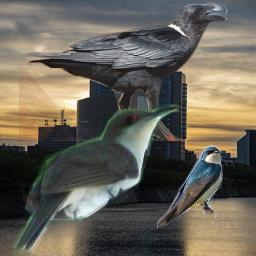Crow: (19, 0, 228, 141)
Cuckoo: (13, 104, 181, 255)
Swallow: (154, 143, 225, 229)
